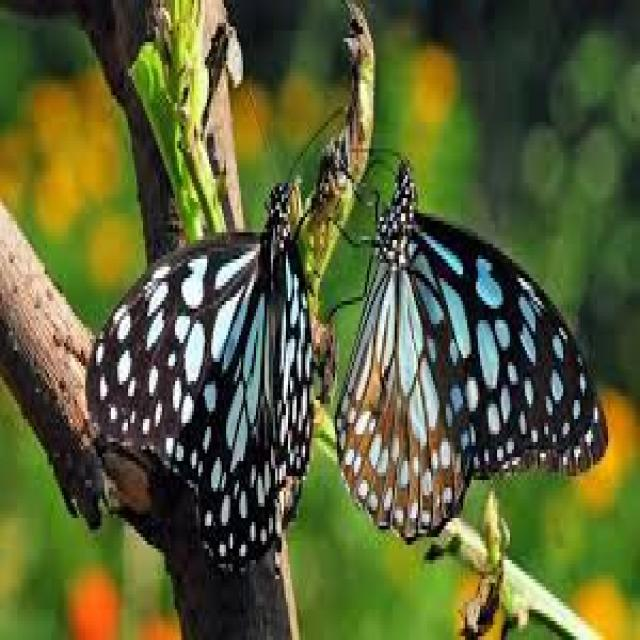butterfly: (161, 123, 526, 536)
